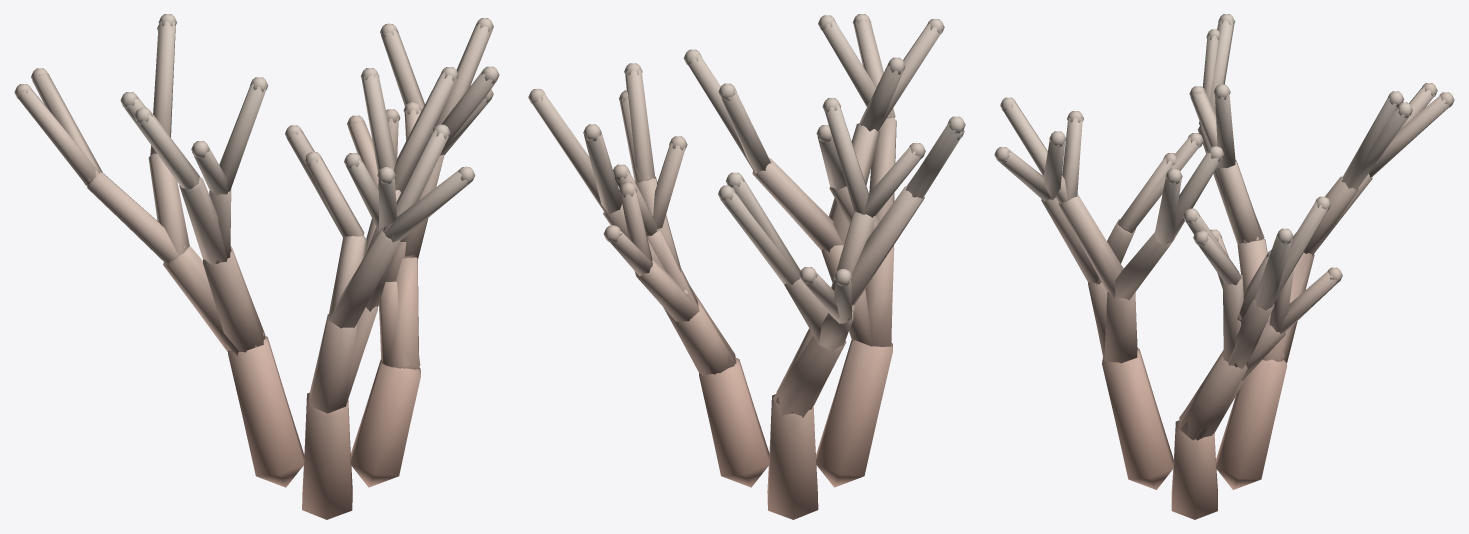
File: coral_branch.glb
The picture shows the model from 3 angles, left to right: view 1: azimuth 30°, elevation 25°; view 2: azimuth 150°, elevation 25°; view 3: azimuth 270°, elevation 25°; orthographic projection. The views are drawn at different scales.
Visible parts, largest first — view 1: CoralBranch; view 2: CoralBranch; view 3: CoralBranch.
Part boxes in pixels (x1,y1,x2,y2): CoralBranch: (14,14,499,519); CoralBranch: (528,14,965,519); CoralBranch: (994,14,1454,519).
Size of the model in its own units: 1.27 by 1.33 by 1.37.
